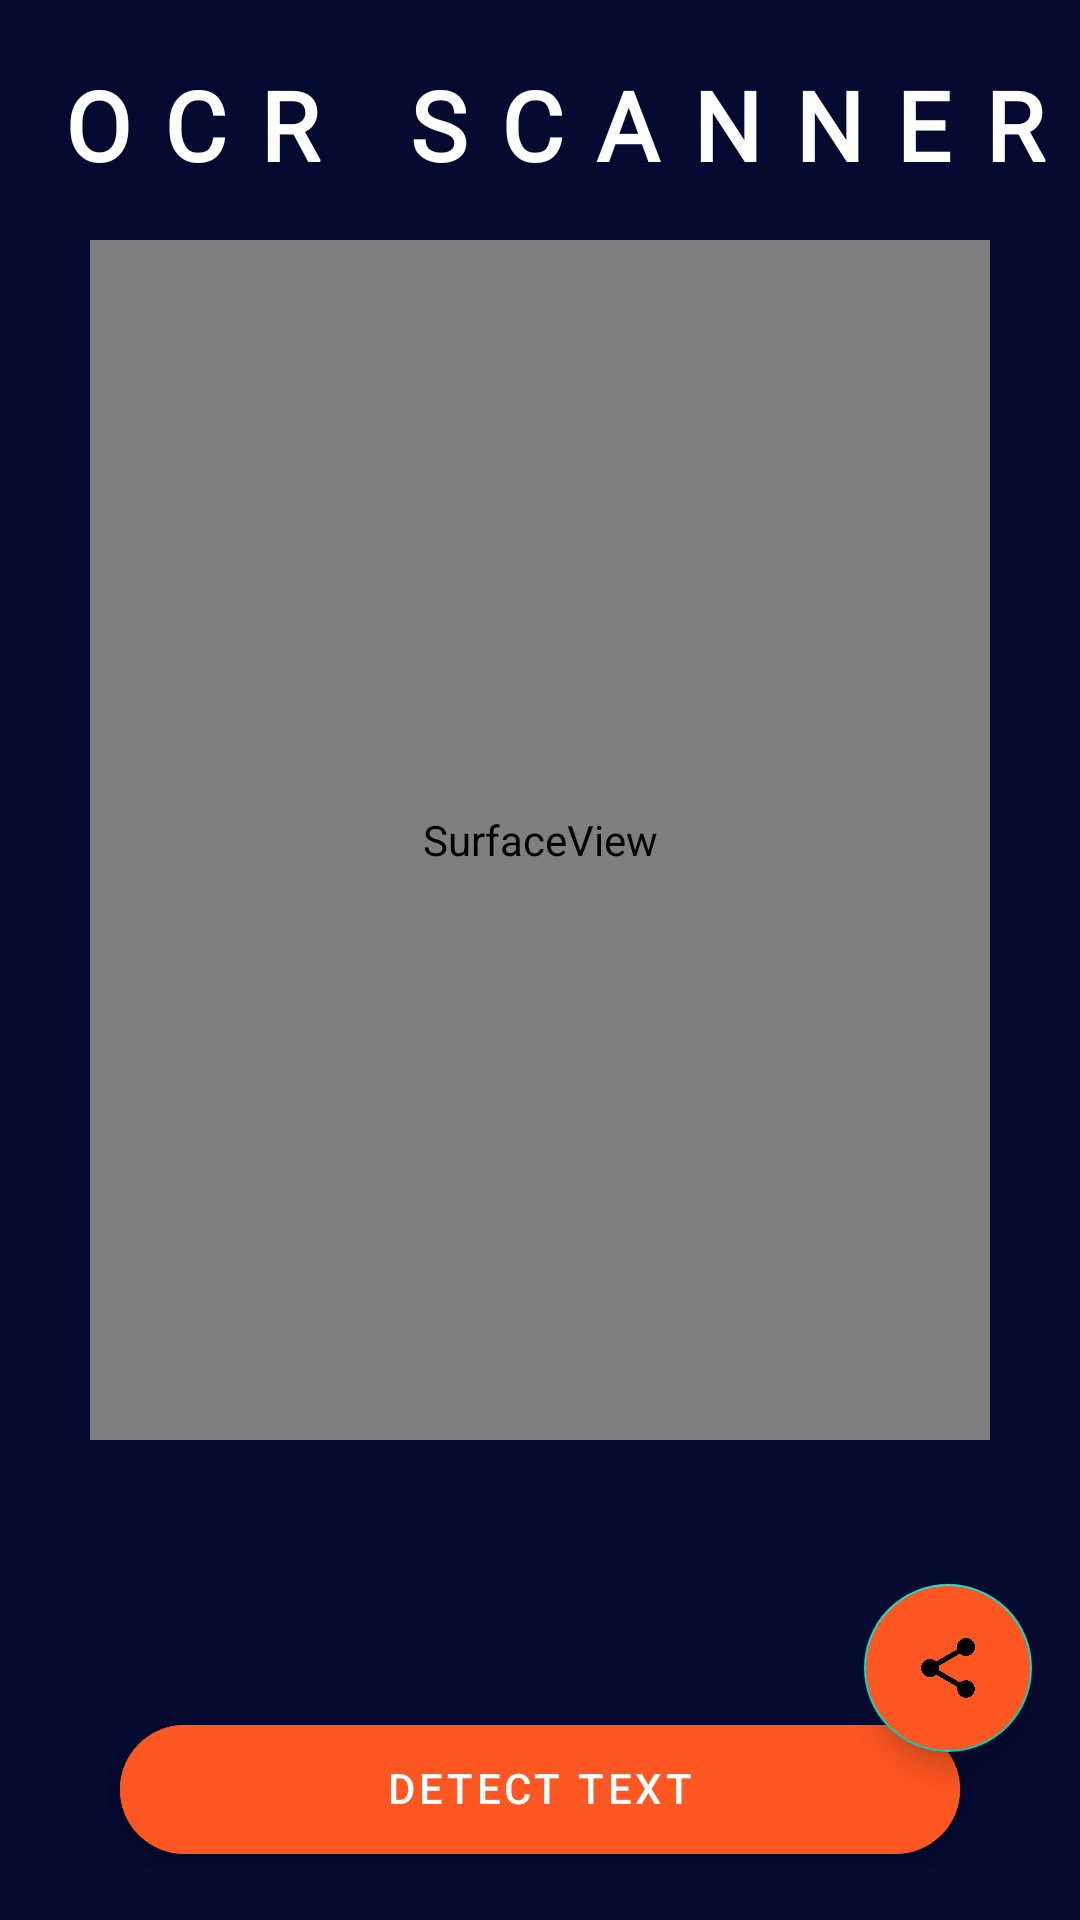

Where icons sit on this 1080 x 1920 app screen, as [left=x1, top=y1, right=x2, bottom=y2]:
share: [left=864, top=1584, right=1032, bottom=1752]
